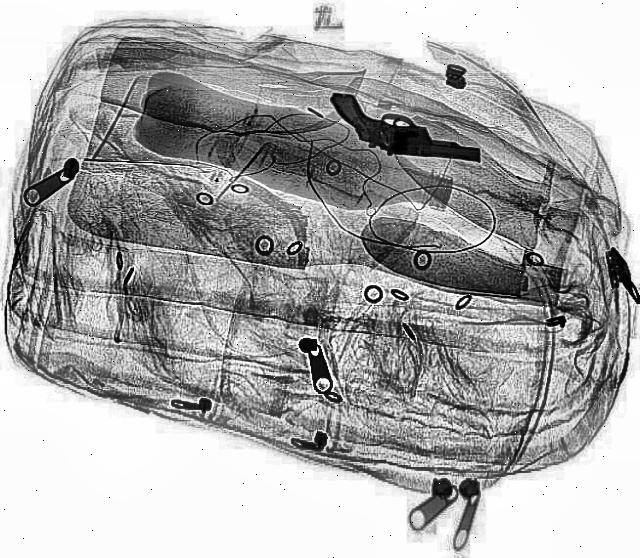Gun: (314, 91, 492, 179)
